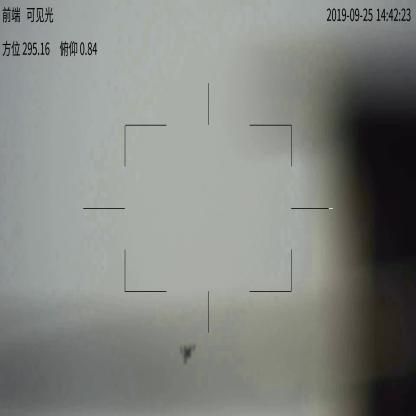uav: (178, 341, 198, 366)
